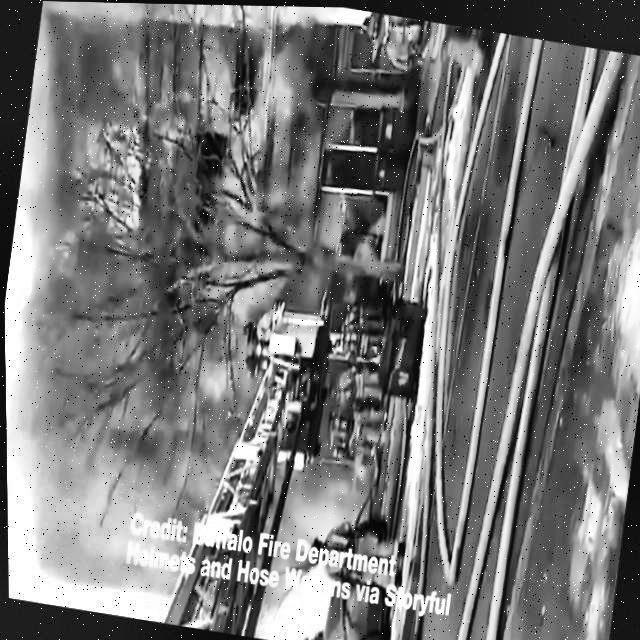Smoke: (3, 215, 272, 515)
